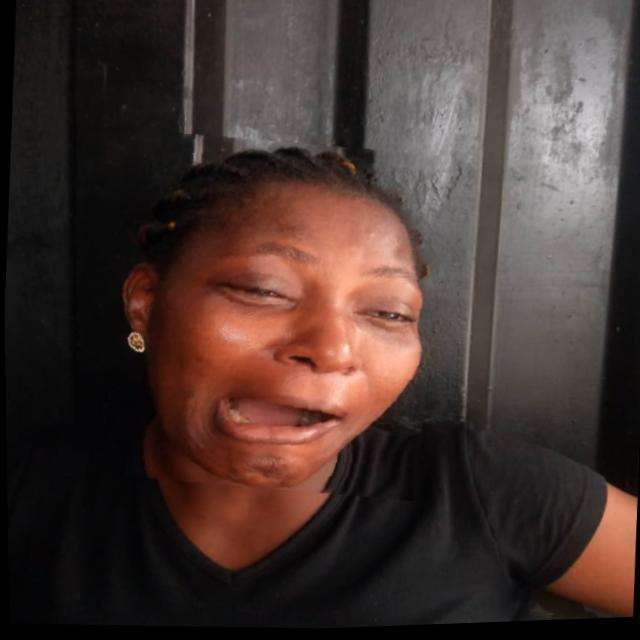sad: (90, 125, 450, 509)
